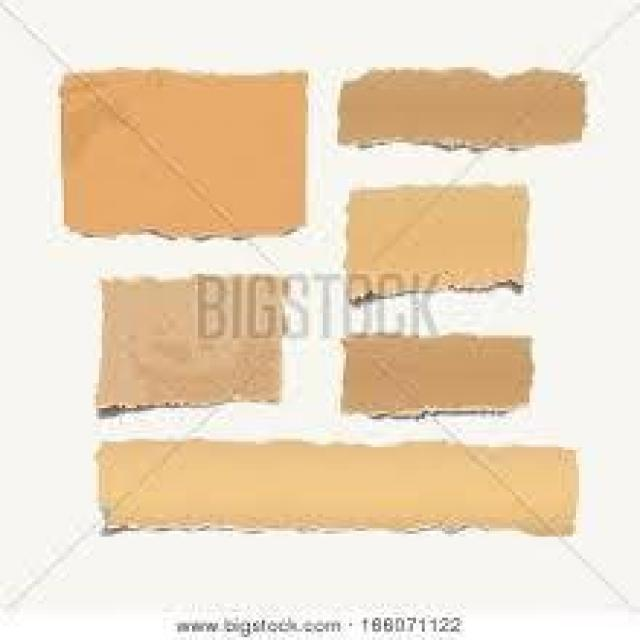box: (96, 439, 579, 539), (59, 67, 309, 240), (96, 274, 285, 416), (340, 65, 588, 160), (344, 185, 533, 308), (341, 333, 536, 422)
